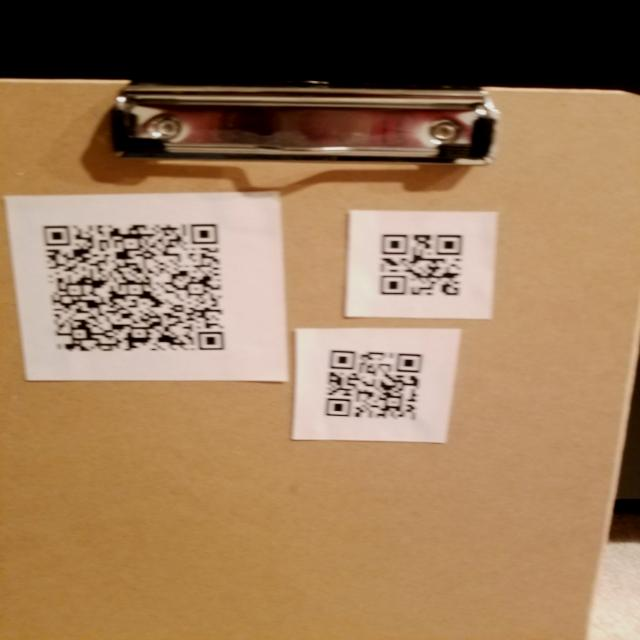QRCode: (26, 209, 238, 368), (313, 338, 442, 433), (367, 223, 472, 310)
